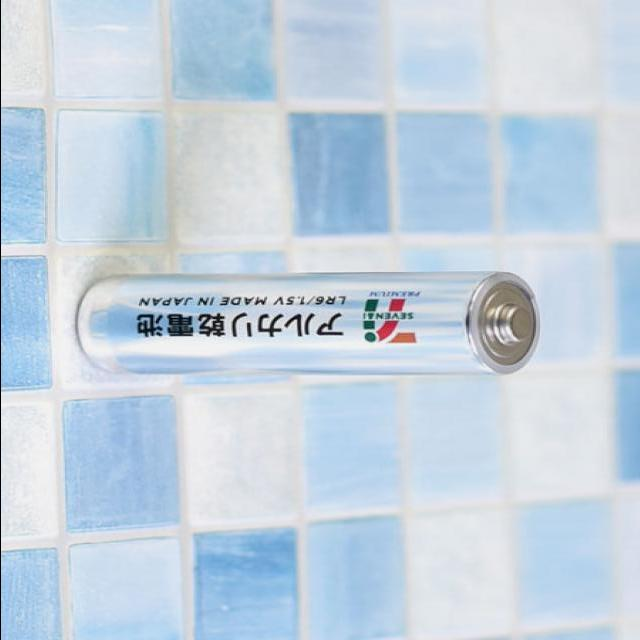AA: (71, 264, 546, 384)
